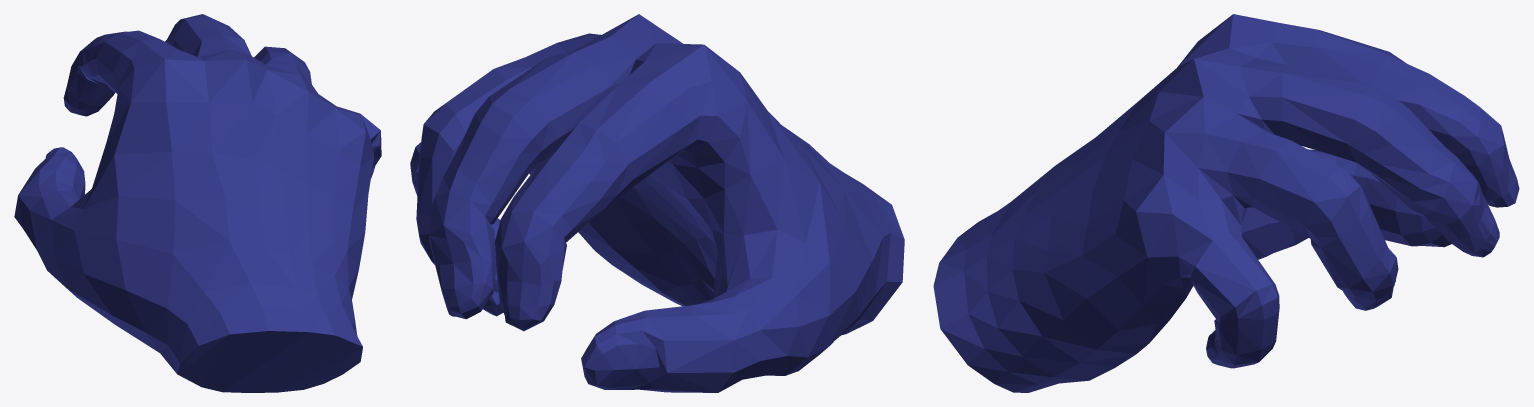
3 renders of one model, left to right at view 1: azimuth 30°, elevation 25°; view 2: azimuth 150°, elevation 25°; view 3: azimuth 270°, elevation 25°, orthographic. The views are drawn at different scales.
Size of the model in its own units: 0.1183 by 0.1003 by 0.1533.
